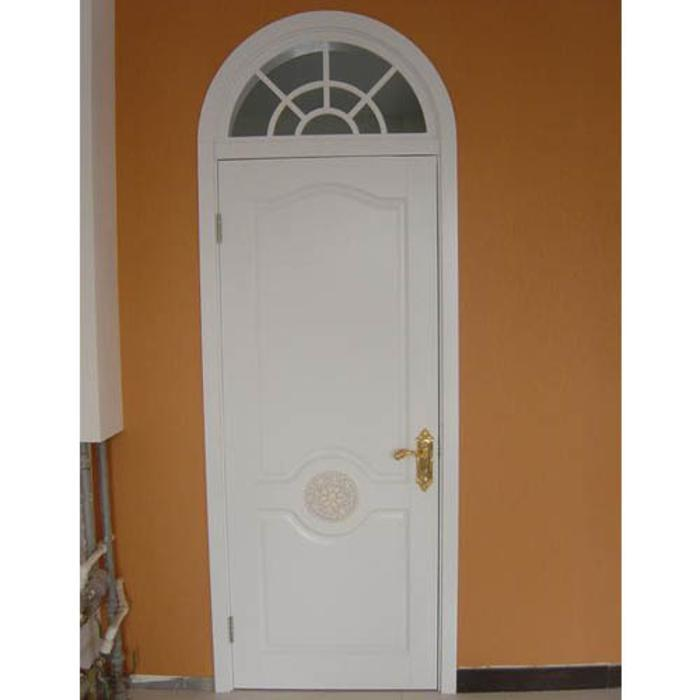door: (220, 153, 443, 694)
